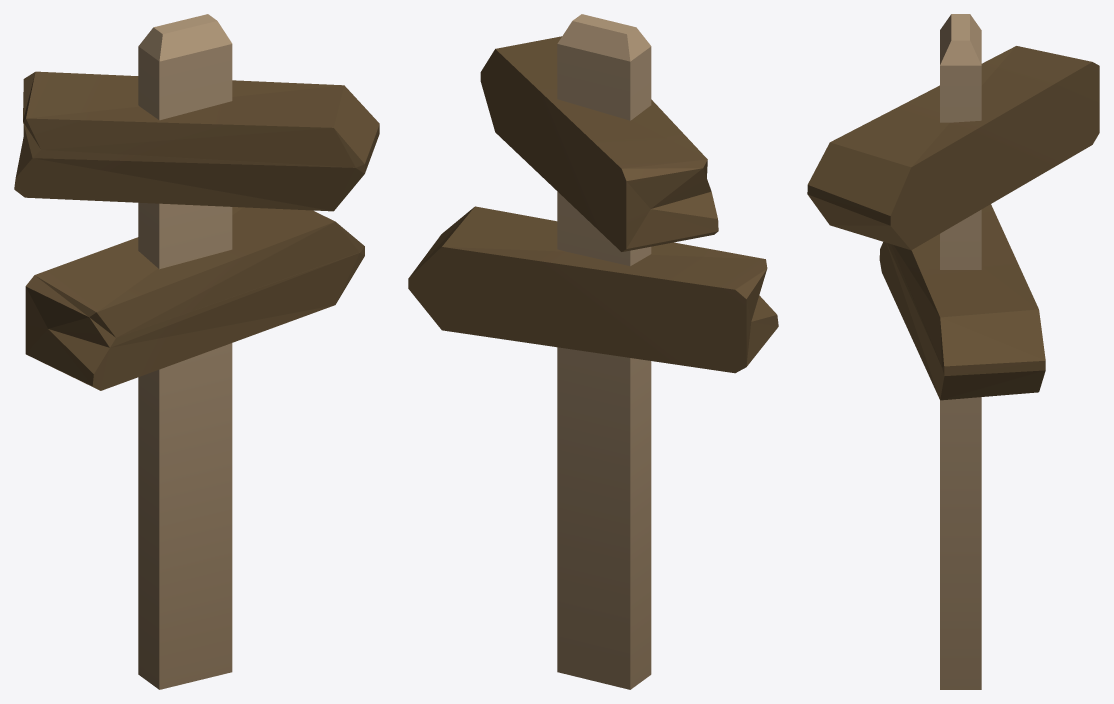
Rendered from Signpost_Tall.gltf.
3 renders of one model, left to right at view 1: azimuth 30°, elevation 25°; view 2: azimuth 150°, elevation 25°; view 3: azimuth 270°, elevation 25°, orthographic.
Parts seen in each view (by area): view 1: Signpost_Tall_Pillar, Signpost_Tall_High, Signpost_Tall_Low; view 2: Signpost_Tall_Pillar, Signpost_Tall_Low, Signpost_Tall_High; view 3: Signpost_Tall_High, Signpost_Tall_Low, Signpost_Tall_Pillar.
Part boxes in pixels (<box>): Signpost_Tall_Pillar: <box>138,14,232,689</box>; Signpost_Tall_High: <box>14,71,379,211</box>; Signpost_Tall_Low: <box>25,207,364,390</box>; Signpost_Tall_Pillar: <box>557,14,651,689</box>; Signpost_Tall_Low: <box>408,206,778,373</box>; Signpost_Tall_High: <box>480,36,718,251</box>; Signpost_Tall_High: <box>807,46,1099,250</box>; Signpost_Tall_Low: <box>879,204,1045,400</box>; Signpost_Tall_Pillar: <box>940,14,981,689</box>.
Size of the model in its own units: 1.04 by 2 by 0.8192.
Materials: 1 (1 with a texture image).
